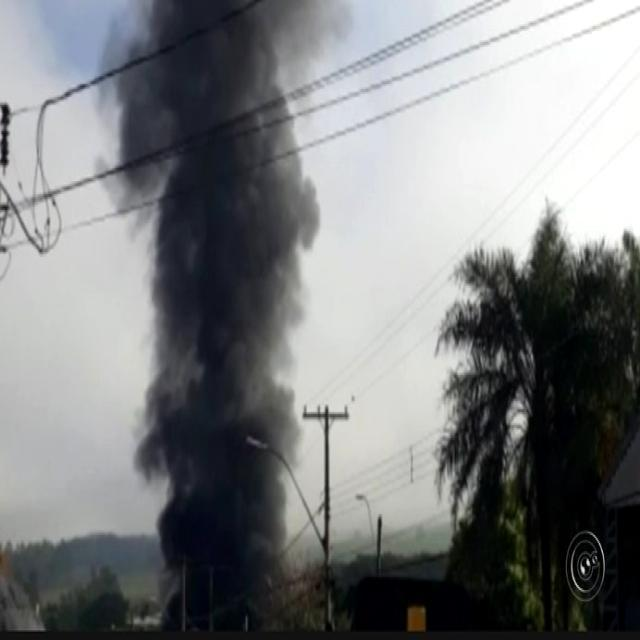Smoke: (116, 0, 319, 603)
